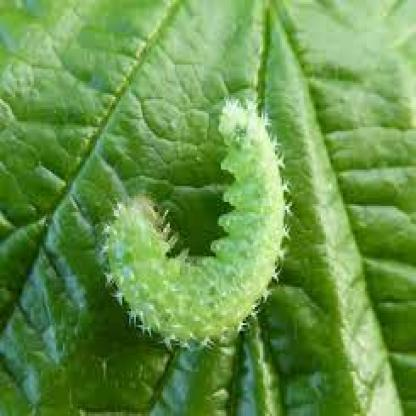sawfly: (92, 91, 307, 360)
